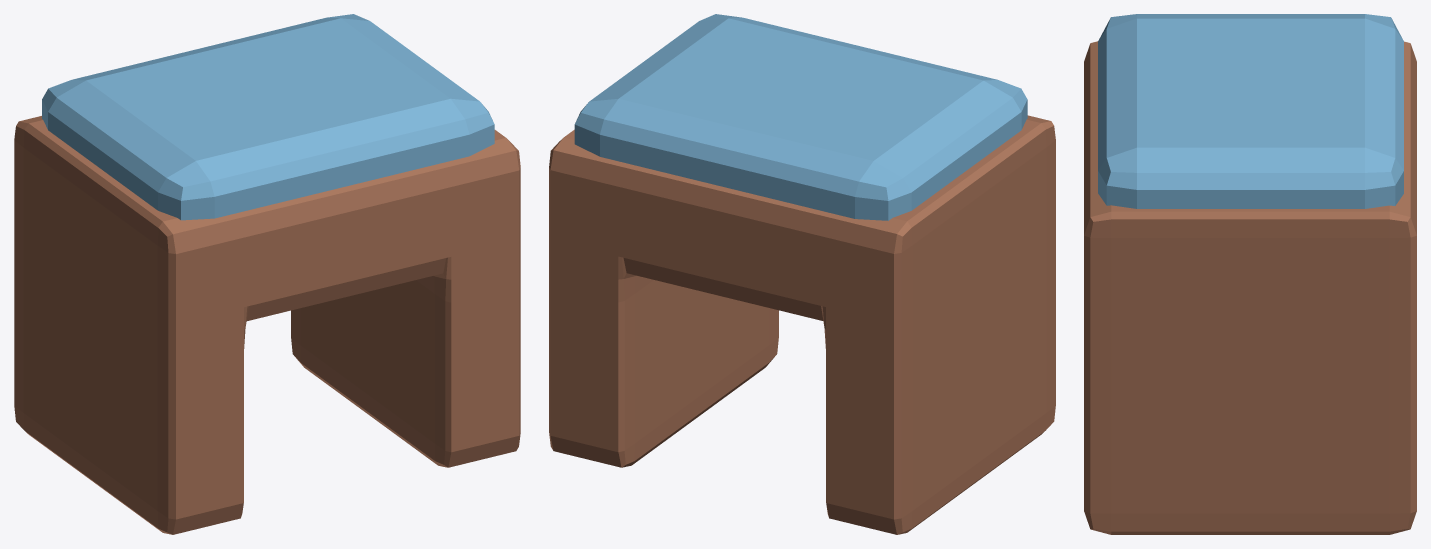
Rendered from Bedroom_SmallChair.fbx.
3 views of the same model, side by side, from view 1: azimuth 30°, elevation 25°; view 2: azimuth 150°, elevation 25°; view 3: azimuth 270°, elevation 25° (orthographic). The views are drawn at different scales.
Visible parts, largest first — view 1: Bedroom_SmallChair.001, Bedroom_SmallChair.002; view 2: Bedroom_SmallChair.001, Bedroom_SmallChair.002; view 3: Bedroom_SmallChair.001, Bedroom_SmallChair.002.
Boxes of the visible parts, box(x1,y1,x2,y2) form: Bedroom_SmallChair.001: box(14, 116, 520, 534); Bedroom_SmallChair.002: box(42, 14, 494, 220); Bedroom_SmallChair.001: box(549, 115, 1055, 534); Bedroom_SmallChair.002: box(574, 14, 1027, 220); Bedroom_SmallChair.001: box(1084, 41, 1416, 534); Bedroom_SmallChair.002: box(1098, 14, 1403, 208).
Size of the model in its own units: 43.62 by 52.83 by 55.51.
